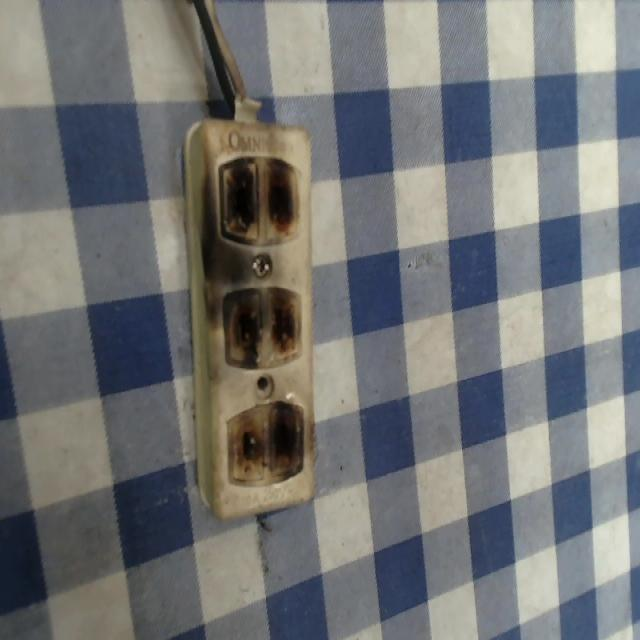-: (213, 155, 300, 245), (219, 396, 304, 488), (221, 284, 303, 367)
